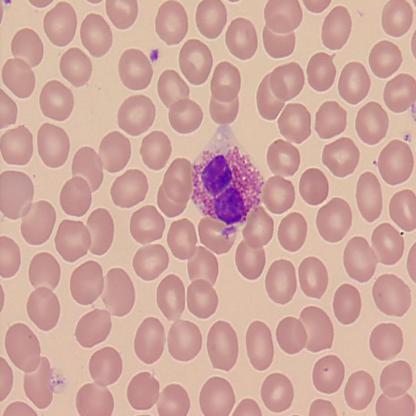Eosinophil: (191, 124, 265, 238)
